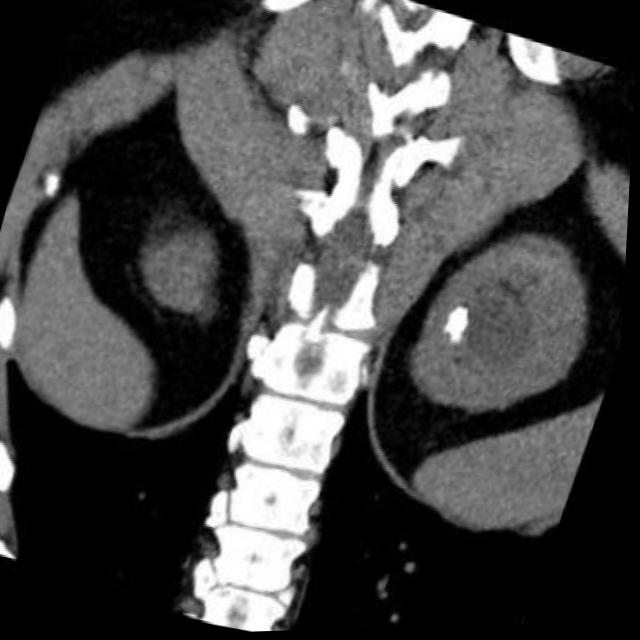Tas_Var: (441, 297, 486, 356)
